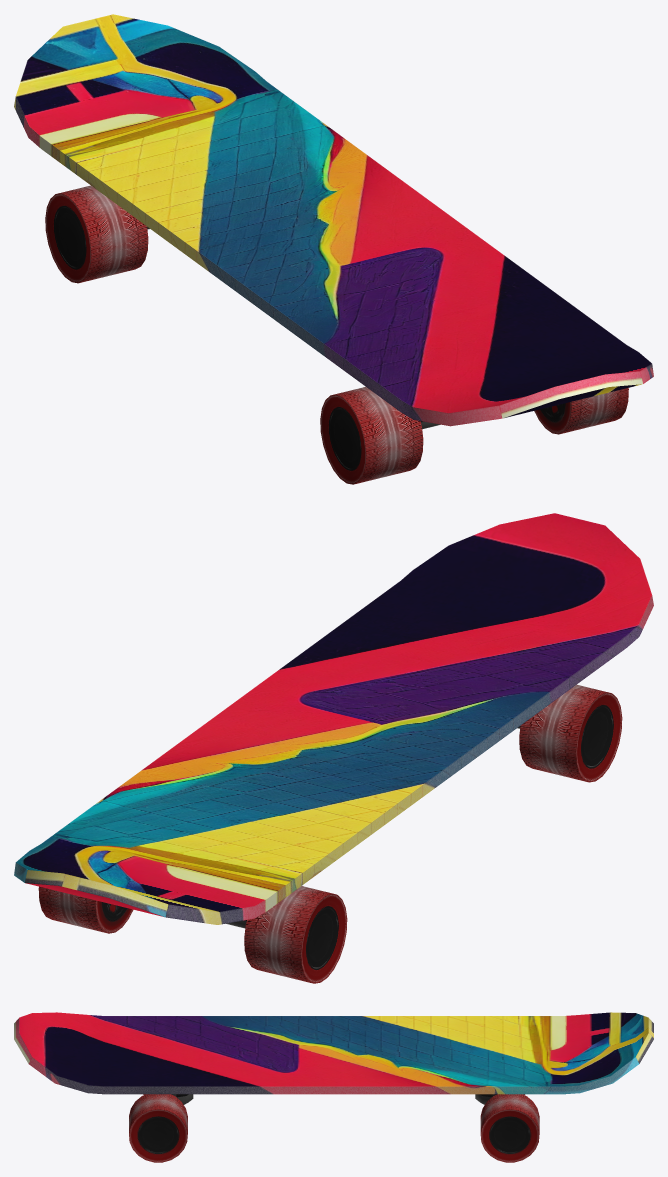
Rendered from Skateboard.fbx.
The picture shows the model from 3 angles, top to bottom: view 1: azimuth 30°, elevation 25°; view 2: azimuth 150°, elevation 25°; view 3: azimuth 270°, elevation 25°; orthographic projection. The views are drawn at different scales.
Parts seen in each view (by area): view 1: Skateboard, skateboardWheel_RL, skateboardWheel_FL, skateboardWheel_RR; view 2: Skateboard, skateboardWheel_FL, skateboardWheel_RL, skateboardWheel_FR; view 3: Skateboard, skateboardWheel_FR, skateboardWheel_RR, Skateboard_Axles.
Boxes of the visible parts, bbox=[...] form: Skateboard: bbox=[14, 14, 653, 426]; skateboardWheel_RL: bbox=[320, 387, 423, 484]; skateboardWheel_FL: bbox=[45, 185, 148, 283]; skateboardWheel_RR: bbox=[534, 388, 628, 434]; Skateboard: bbox=[14, 513, 653, 924]; skateboardWheel_FL: bbox=[244, 886, 347, 983]; skateboardWheel_RL: bbox=[519, 684, 622, 782]; skateboardWheel_FR: bbox=[38, 886, 133, 933]; Skateboard: bbox=[14, 1012, 653, 1094]; skateboardWheel_FR: bbox=[480, 1094, 539, 1162]; skateboardWheel_RR: bbox=[129, 1094, 187, 1162]; Skateboard_Axles: bbox=[171, 1094, 496, 1104].
Size of the model in its own units: 51.54 by 27.92 by 170.
2 materials, 2 textured.
